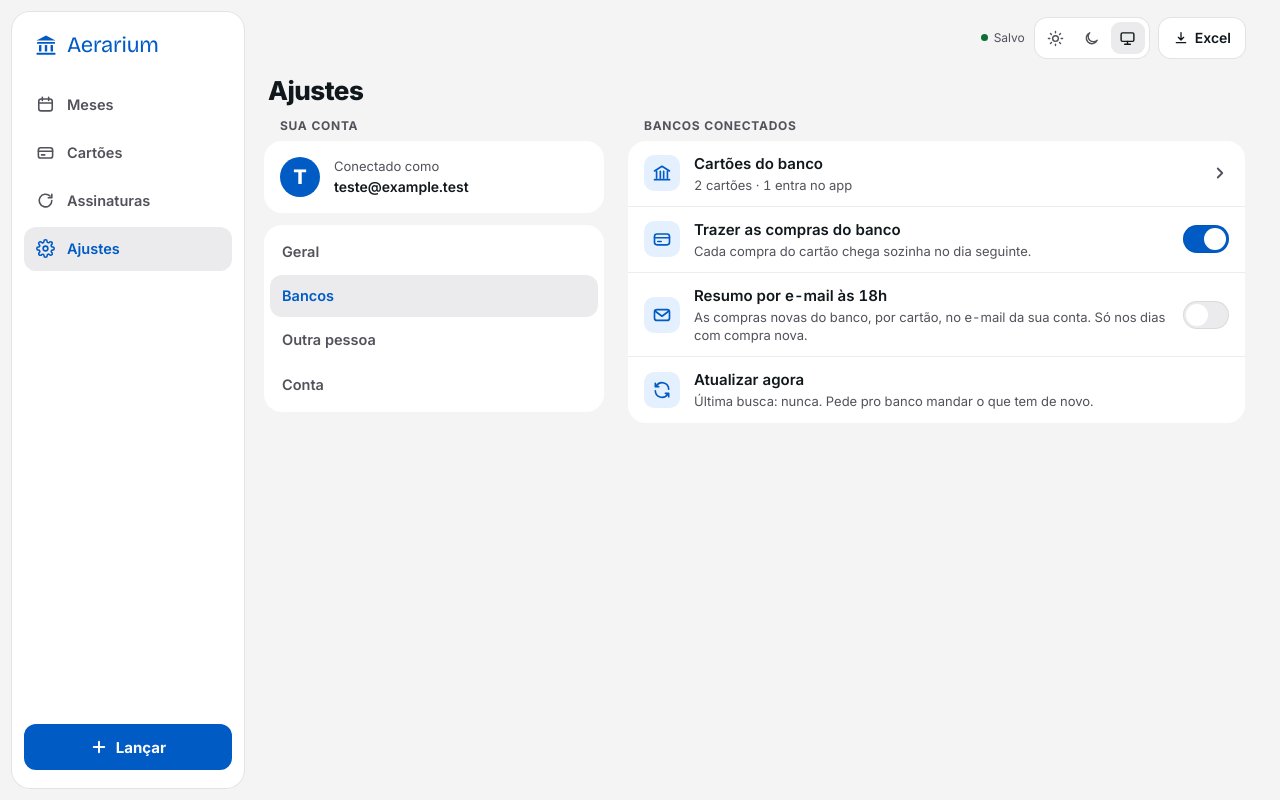
Test: "Atualizar agora" pede pro banco e mostra como cada um está › servidor antigo ou banco que não deixa pedir: olha o que tem, sem aviso
Click the button "Atualizar agora": (662, 390) [628,357,1245,423]
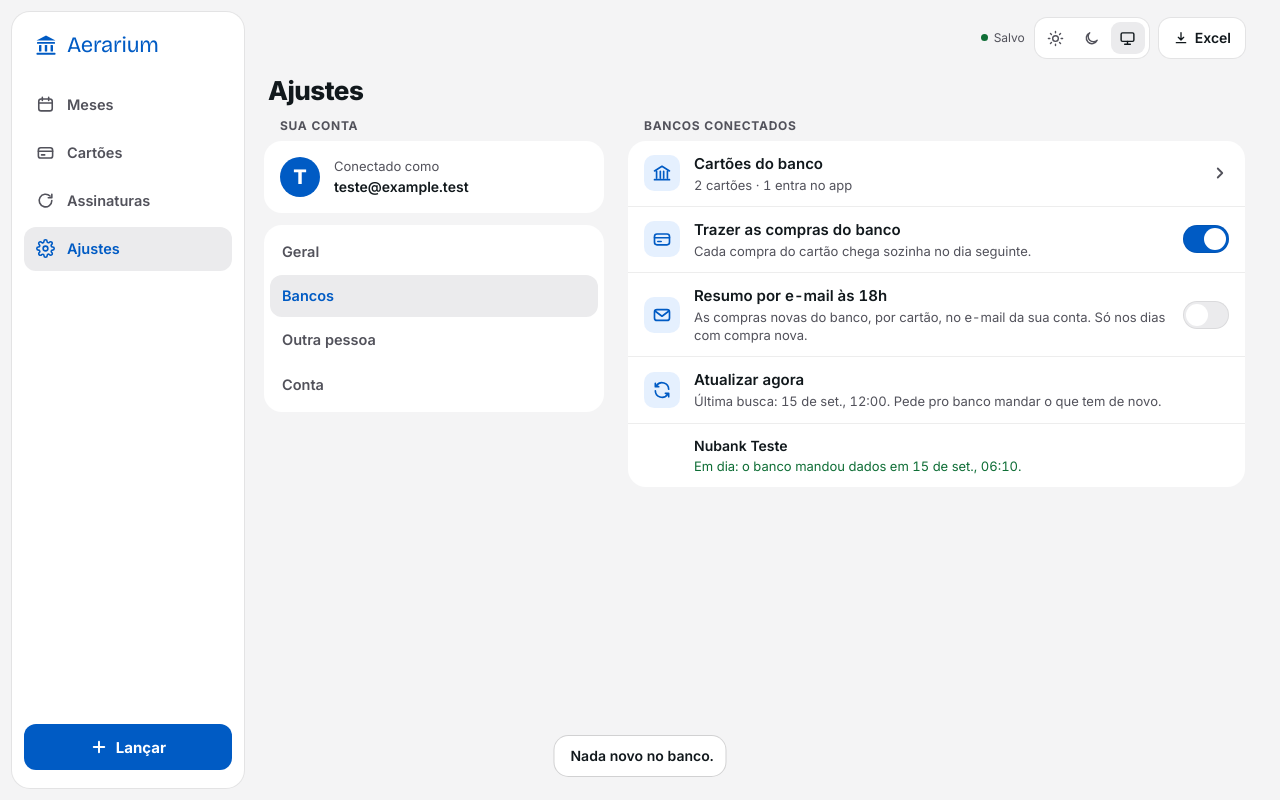
Expected: the text "Nada novo no banco." is shown, [570,746,714,766]
Expected: the text "Em dia: o banco mandou dados em 15 de set., 06:10." is shown, [694,458,1022,474]
